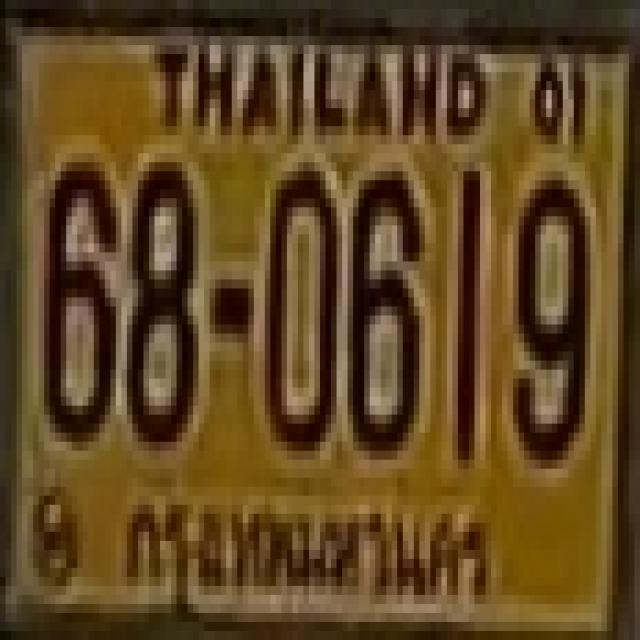0: (262, 162, 334, 442)
1: (450, 162, 477, 460)
6: (38, 153, 116, 433), (345, 162, 416, 451)
8: (124, 153, 196, 442)
9: (508, 176, 584, 455)
BKK: (114, 480, 503, 630)
